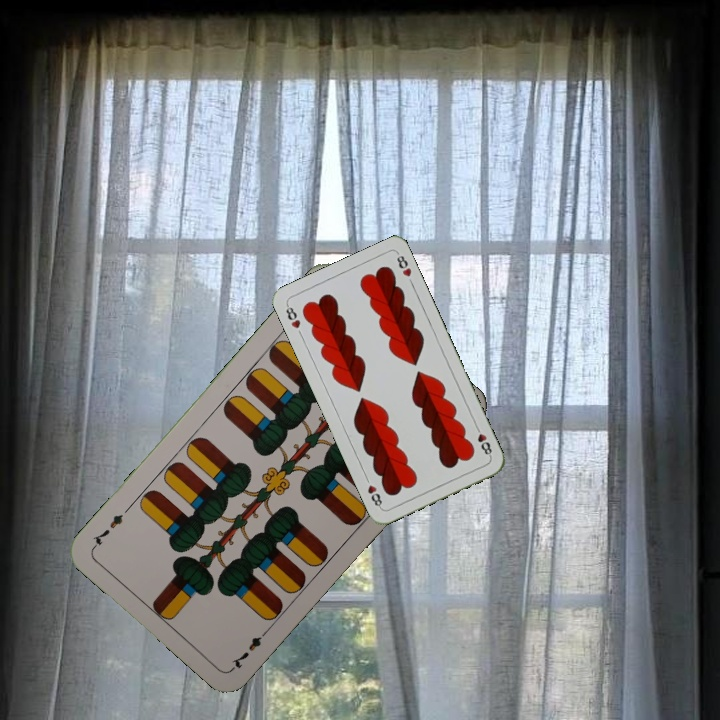E7: (227, 624, 273, 672)
H8: (471, 421, 495, 460), (282, 300, 303, 331)
